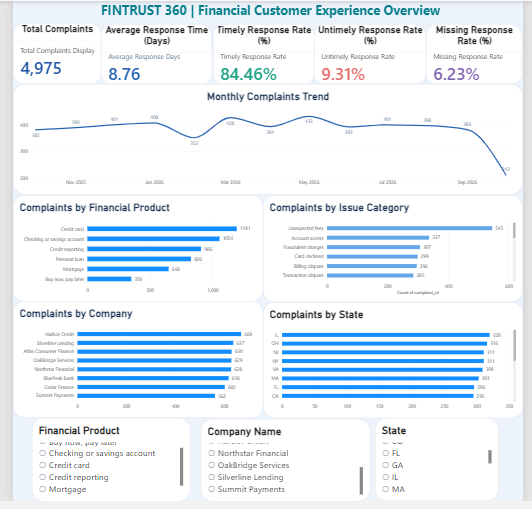

Layout of this report page (visuals, bound fields, positions):
{"tool":"powerbi","page":{"name":"Page 1","canvas":[1280,1220],"ordinal":0},"visuals":[{"type":"cardVisual","title":"Total Complaints","fields":{"Data":["Original_Financial_Complaints csv.Total Complaints Display"]},"box":[0,56.1,222,153.7],"z":0},{"type":"cardVisual","title":"Average Response Time (Days)","fields":{"Data":["Original_Financial_Complaints csv.Average Response Days"]},"box":[222.2,57.2,279.4,151.8],"z":1000},{"type":"cardVisual","title":"Timely Response Rate (%)","fields":{"Data":["Original_Financial_Complaints csv.Timely Response Rate"]},"box":[501.6,57.2,255.2,151.8],"z":2000},{"type":"cardVisual","title":"Untimely Response Rate (%)","fields":{"Data":["Original_Financial_Complaints csv.Untimely Response Rate"]},"box":[756.8,57.2,281.6,151.8],"z":3000},{"type":"cardVisual","title":"Missing Response Rate (%)","fields":{"Data":["Original_Financial_Complaints csv.Missing Response Rate"]},"box":[1038.4,57.2,242,151.8],"z":4000},{"type":"clusteredBarChart","title":"Complaints by Financial Product","fields":{"Category":["Original_Financial_Complaints csv.financial_product"],"Y":["CountNonNull(Original_Financial_Complaints csv.complaint_id)"]},"box":[0,488,628.8,268.8],"z":5000},{"type":"clusteredBarChart","title":"Complaints by Issue Category","fields":{"Category":["Original_Financial_Complaints csv.issue_category"],"Y":["CountNonNull(Original_Financial_Complaints csv.complaint_id)"]},"box":[629.5,488,652.8,268.8],"z":6000},{"type":"lineChart","title":"Monthly Complaints Trend","fields":{"Category":["Original_Financial_Complaints csv.date_received.Variation.Date Hierarchy.Year","Original_Financial_Complaints csv.date_received.Variation.Date Hierarchy.Month"],"Y":["CountNonNull(Original_Financial_Complaints csv.complaint_id)"]},"box":[0,209.8,1281,278.2],"z":7000},{"type":"clusteredBarChart","title":"Complaints by Company","fields":{"Category":["Original_Financial_Complaints csv.company_name"],"Y":["CountNonNull(Original_Financial_Complaints csv.complaint_id)"]},"box":[0,754,628.7,255.2],"z":8000},{"type":"clusteredBarChart","title":"Complaints by State","fields":{"Category":["Original_Financial_Complaints csv.state"],"Y":["CountNonNull(Original_Financial_Complaints csv.complaint_id)"]},"box":[629.5,756.4,651.9,255.2],"z":9000},{"type":"listSlicer","title":"Financial Product","fields":{"Values":["Original_Financial_Complaints csv.financial_product"]},"box":[58.6,1010.2,397.7,209.8],"z":10000},{"type":"listSlicer","title":"State","fields":{"Values":["Original_Financial_Complaints csv.state"]},"box":[910.1,1010.2,310.2,209],"z":11000},{"type":"listSlicer","title":"Company Name","fields":{"Values":["Original_Financial_Complaints csv.company_name"]},"box":[473.4,1012.6,424.6,207.4],"z":12000},{"type":"textbox","box":[222.2,0,1375,74.8],"z":13000}]}

Visuals, with their boxes in screenshot pixels (x1, y1, x2, y2), scaled from the page's 1280x1220 canvas onto the 532x509 screenshot:
"Total Complaints" cardVisual: detection(0, 23, 92, 88)
"Average Response Time (Days)" cardVisual: detection(92, 24, 208, 87)
"Timely Response Rate (%)" cardVisual: detection(208, 24, 315, 87)
"Untimely Response Rate (%)" cardVisual: detection(315, 24, 432, 87)
"Missing Response Rate (%)" cardVisual: detection(432, 24, 531, 87)
"Complaints by Financial Product" clusteredBarChart: detection(0, 204, 261, 316)
"Complaints by Issue Category" clusteredBarChart: detection(262, 204, 531, 316)
"Monthly Complaints Trend" lineChart: detection(0, 88, 531, 204)
"Complaints by Company" clusteredBarChart: detection(0, 315, 261, 421)
"Complaints by State" clusteredBarChart: detection(262, 316, 531, 422)
"Financial Product" listSlicer: detection(24, 421, 190, 508)
"State" listSlicer: detection(378, 421, 507, 508)
"Company Name" listSlicer: detection(197, 422, 373, 508)
textbox: detection(92, 0, 531, 31)
